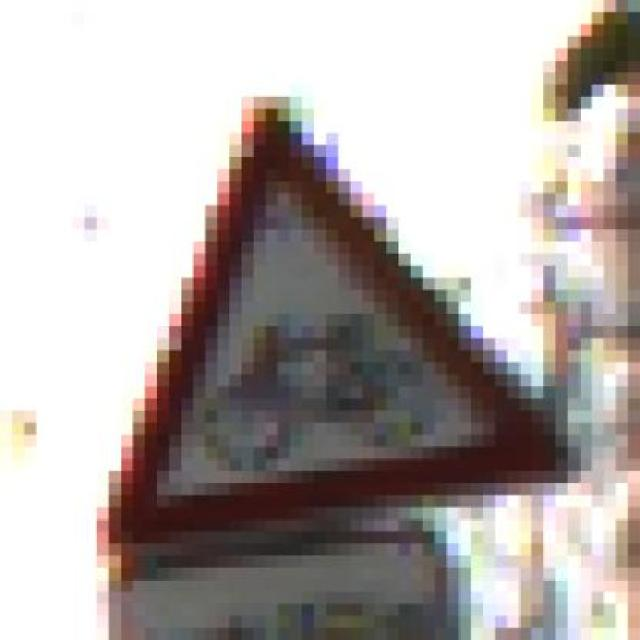CYCLE ROUTE AHEAD WARNING: (60, 96, 592, 556)
